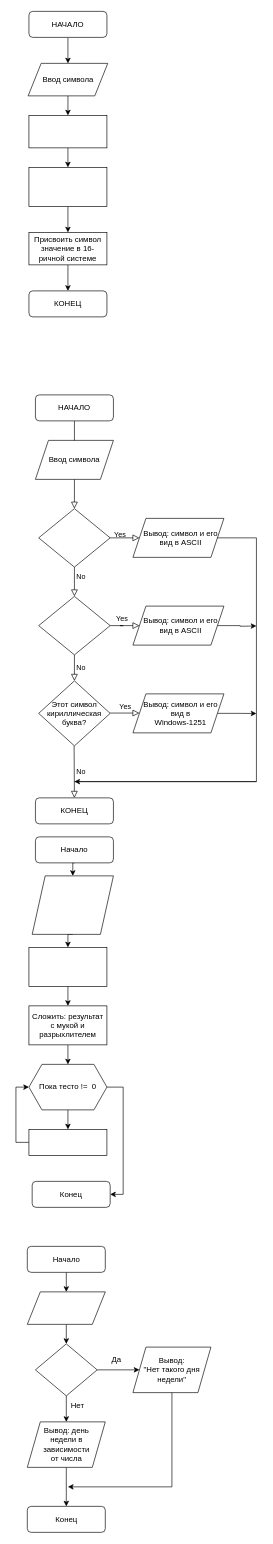
The diagram is 273 pixels wide and 1544 high, and some of its shapes have lost their labels. Here are the shapes that lost their labels. From the top down, the centre of each, then its label:
the point at 67,131: Присвоить символ значение из таблицы
the point at 67,186: Прибавить к символ + 20
the point at 74,537: Этот символ число?
the point at 74,625: Этот символ латинская буква?
the point at 72,904: Ввод молоко, яйца, сахар, сахар ванильный, разрыхлитель, мука
the point at 67,966: Сложить: молоко, яйца, сахар
the point at 67,1142: Жарить блины
the point at 66,1307: Ввод: "число дня недели: "
the point at 66,1369: Число от 1 до 7?
